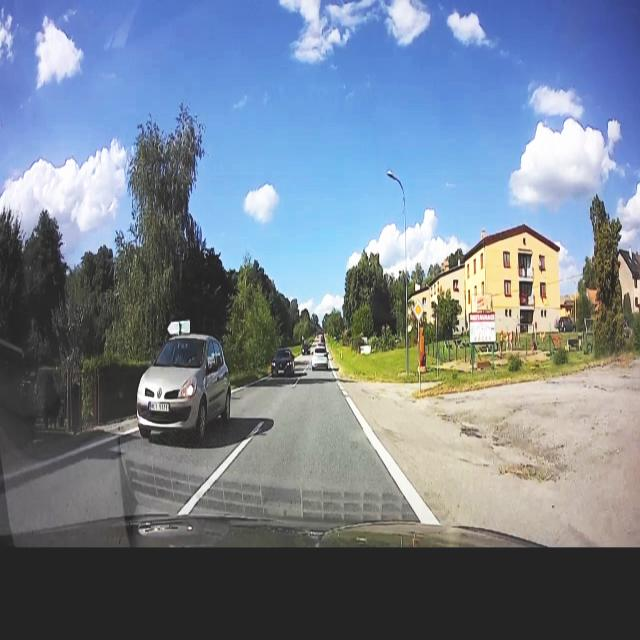Priority road: (412, 297, 425, 321)
